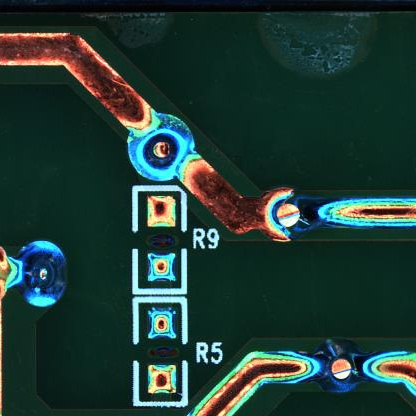spot: (126, 111, 197, 183), (257, 185, 316, 245), (18, 239, 67, 309), (315, 337, 364, 395)
